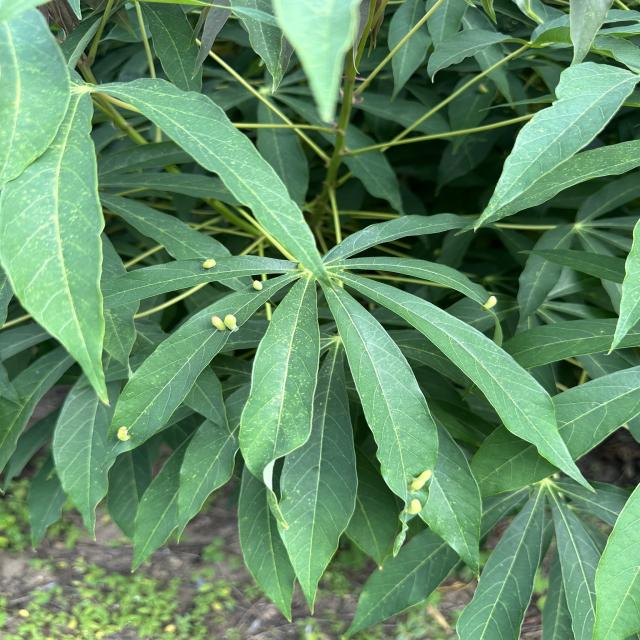Mosca: (407, 460, 435, 523), (208, 309, 244, 335), (102, 420, 132, 450), (194, 250, 222, 280), (477, 292, 506, 316), (470, 77, 498, 99), (249, 269, 266, 298)
